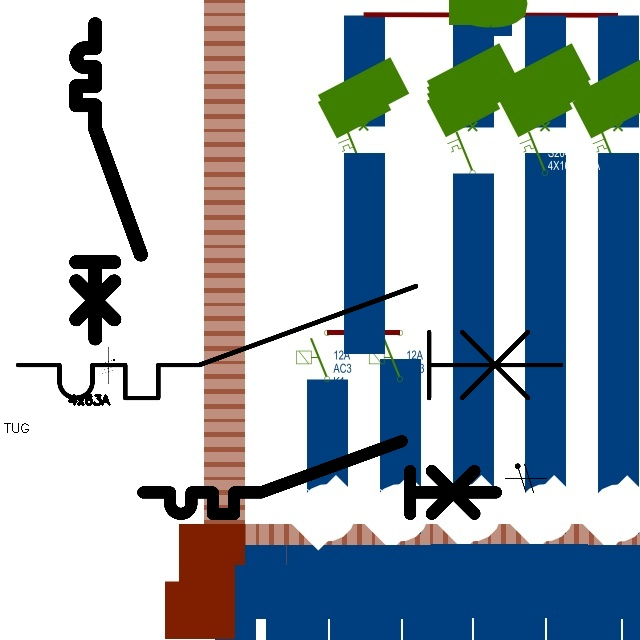interruptor_termomagnetico: (4, 272, 575, 412), (134, 432, 505, 523), (68, 16, 149, 346)
